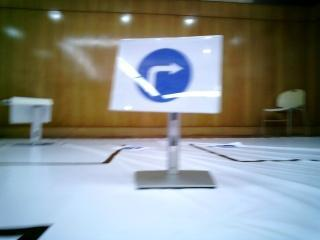right: (123, 37, 220, 111)
